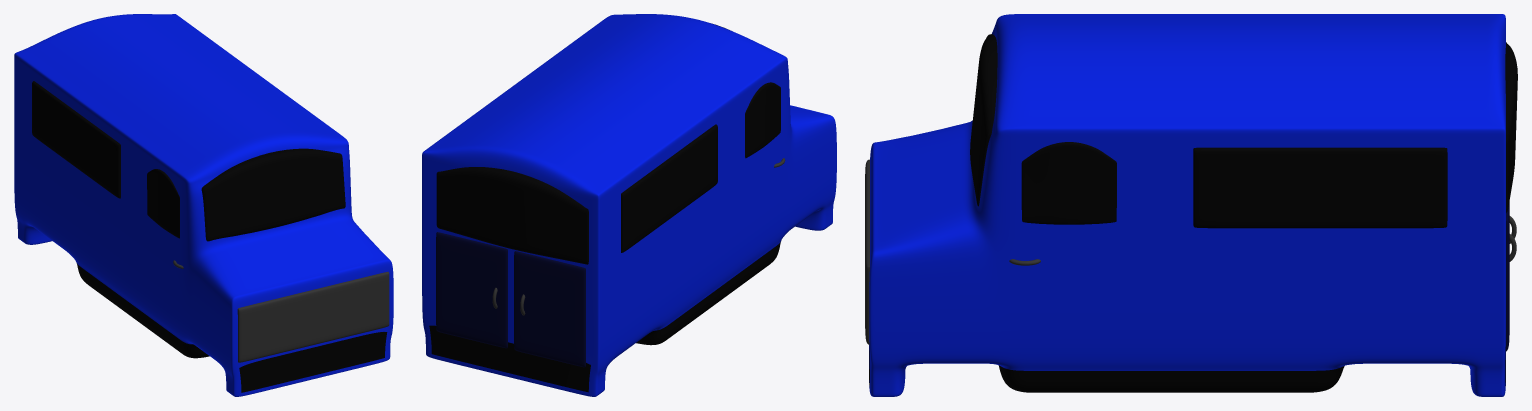
File: Van.fbx
3 renders of one model, left to right at view 1: azimuth 30°, elevation 25°; view 2: azimuth 150°, elevation 25°; view 3: azimuth 270°, elevation 25°, orthographic. The views are drawn at different scales.
Parts seen in each view (by area): view 1: Cube, Cube.001, Cube.007, Cube.005, Cube.003; view 2: Cube, Cube.006, Cube.009, Cube.008, Cube.005, Cube.003; view 3: Cube, Cube.004, Cube.002, Cube.001, Cube.006, Cube.007, Cube.008.
Part boxes in pixels (left/top/right/bottom): Cube: left=14, top=14, right=393, bottom=396; Cube.001: left=201, top=148, right=345, bottom=241; Cube.007: left=237, top=271, right=389, bottom=362; Cube.005: left=32, top=81, right=120, bottom=198; Cube.003: left=147, top=169, right=179, bottom=238; Cube: left=422, top=14, right=836, bottom=396; Cube.006: left=436, top=167, right=588, bottom=264; Cube.009: left=514, top=251, right=585, bottom=367; Cube.008: left=436, top=232, right=507, bottom=348; Cube.005: left=621, top=124, right=717, bottom=252; Cube.003: left=745, top=82, right=780, bottom=158; Cube: left=869, top=14, right=1505, bottom=396; Cube.004: left=1193, top=147, right=1447, bottom=228; Cube.002: left=1021, top=142, right=1116, bottom=224; Cube.001: left=970, top=34, right=997, bottom=206; Cube.006: left=1505, top=42, right=1517, bottom=212; Cube.007: left=865, top=159, right=869, bottom=344; Cube.008: left=1506, top=201, right=1509, bottom=351.
Bounding box in the file's own units: 463 × 532 × 1055.
